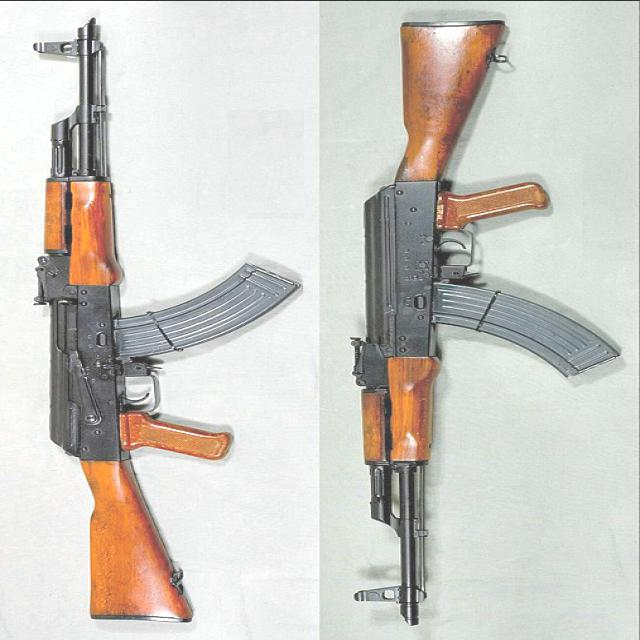long weapon: (318, 12, 600, 626), (9, 10, 272, 628)
